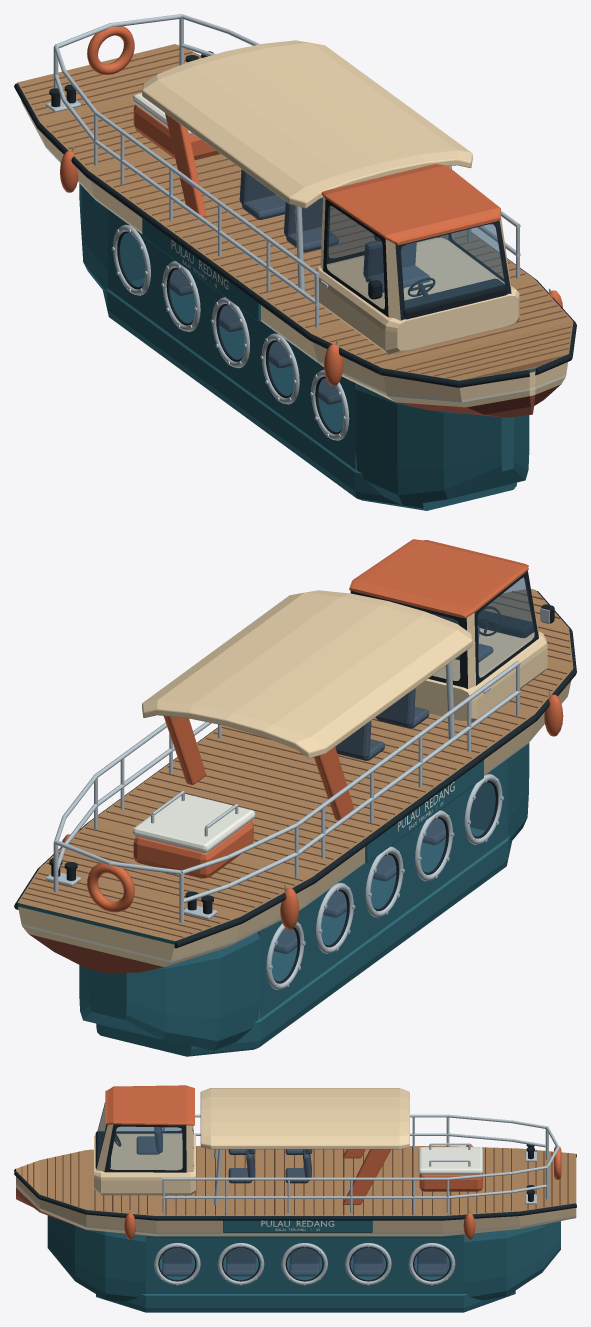
3 renders of one model, top to bottom at view 1: azimuth 30°, elevation 25°; view 2: azimuth 150°, elevation 25°; view 3: azimuth 270°, elevation 25°, orthographic. The views are drawn at different scales.
Visible parts, largest first — view 1: Redang Reef Observatory; view 2: Redang Reef Observatory; view 3: Redang Reef Observatory.
Boxes of the visible parts, bbox=[...] form: Redang Reef Observatory: bbox=[14, 14, 576, 510]; Redang Reef Observatory: bbox=[14, 539, 576, 1056]; Redang Reef Observatory: bbox=[14, 1085, 576, 1312].
Size of the model in its own units: 3.09 by 3.54 by 9.91.
